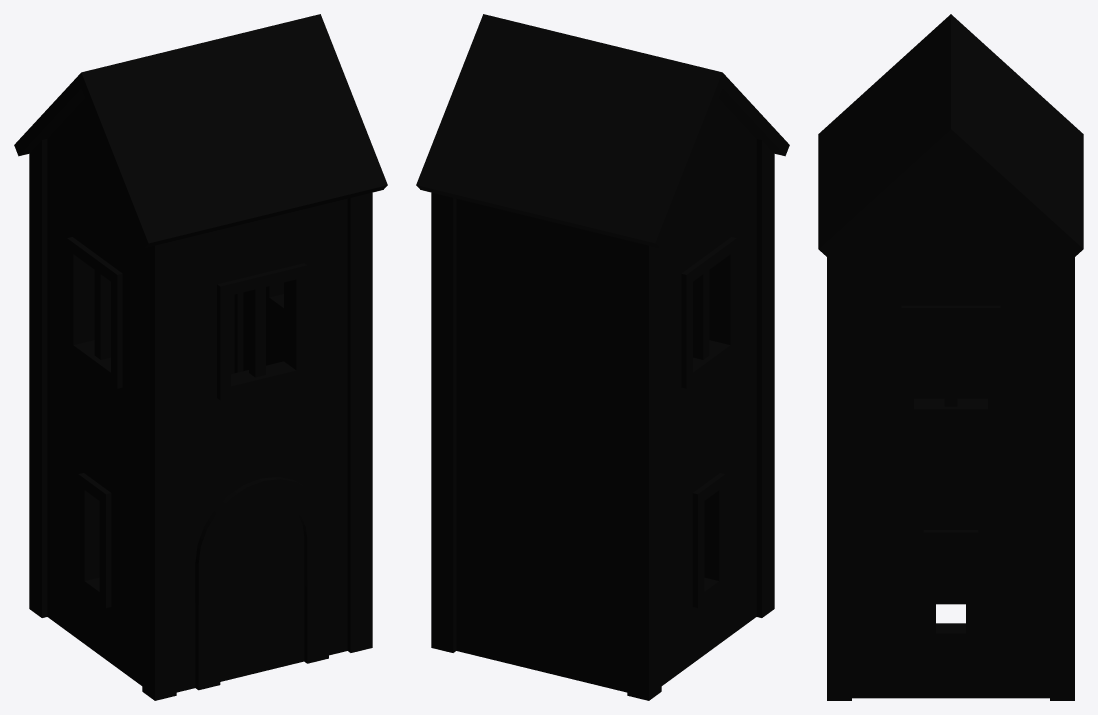
Rendered from house-tall.glb.
The picture shows the model from 3 angles, left to right: view 1: azimuth 30°, elevation 25°; view 2: azimuth 150°, elevation 25°; view 3: azimuth 270°, elevation 25°; orthographic projection.
Parts seen in each view (by area): view 1: wall-window-small; view 2: wall-window-small; view 3: wall-window-small.
Boxes of the visible parts, left/top/right/bottom form: wall-window-small: left=14, top=14, right=387, bottom=700; wall-window-small: left=416, top=14, right=789, bottom=700; wall-window-small: left=818, top=14, right=1083, bottom=700.
Bounding box in the file's own units: 1.1 × 2.57 × 1.07.
Materials: 1 (1 with a texture image).
